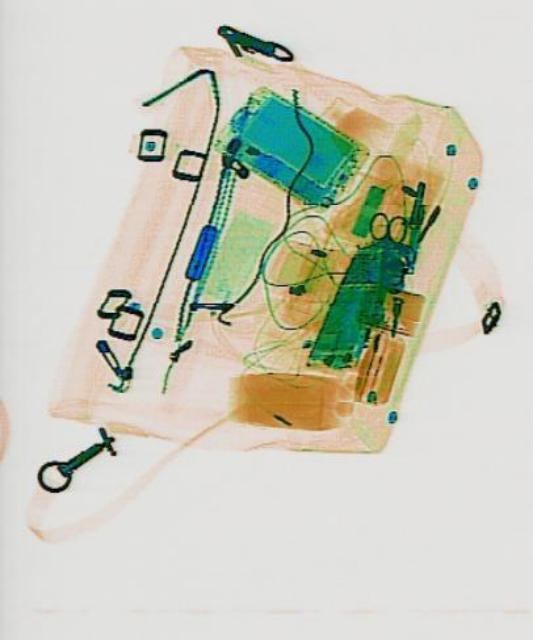Scissors: (361, 211, 404, 305)
